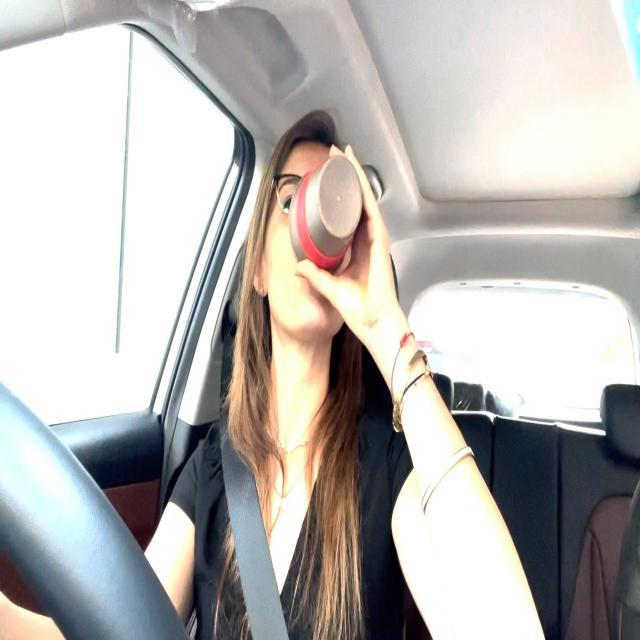Drinking: (256, 140, 392, 334)
